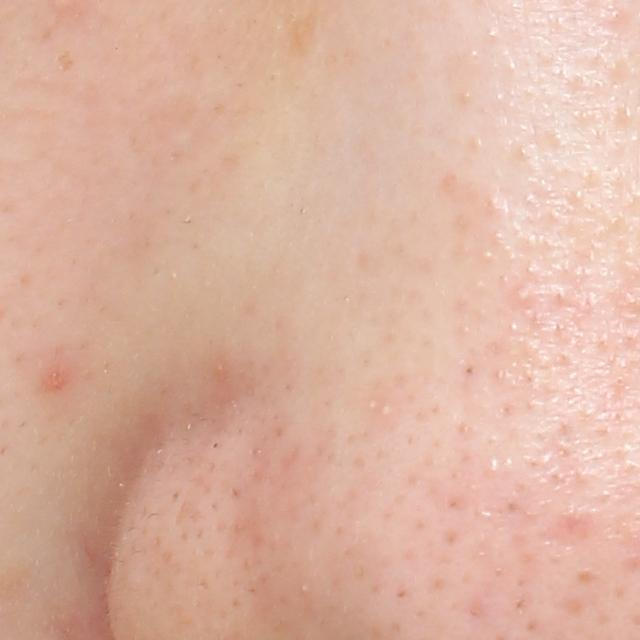comedo: (511, 287, 534, 309)
melasma: (287, 7, 323, 59)
